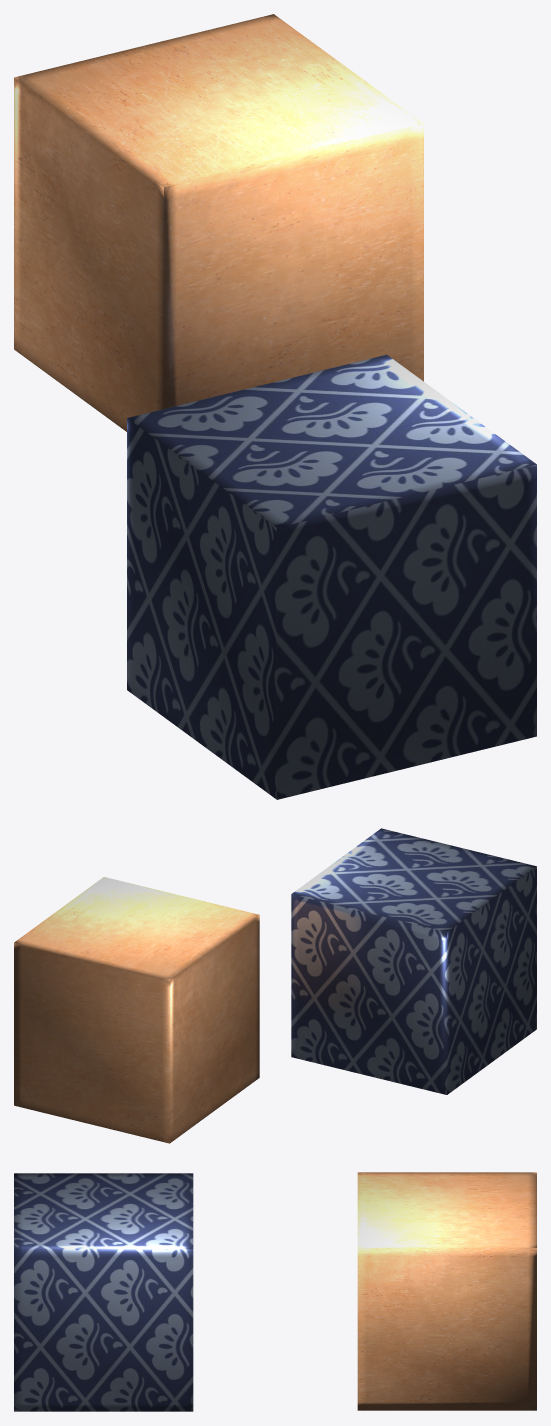
File: anim.glb
3 views of the same model, one above another, from view 1: azimuth 30°, elevation 25°; view 2: azimuth 150°, elevation 25°; view 3: azimuth 270°, elevation 25° (orthographic). The views are drawn at different scales.
Parts seen in each view (by area): view 1: Cube.001; view 2: Cube.001; view 3: Cube.001.
Part boxes in pixels (bbox=[...]): Cube.001: bbox=[14, 14, 536, 799]; Cube.001: bbox=[14, 828, 536, 1143]; Cube.001: bbox=[14, 1172, 536, 1411].
Size of the model in its own units: 3.35 by 2.64 by 5.84.
Materials: 2 (2 with a texture image).
